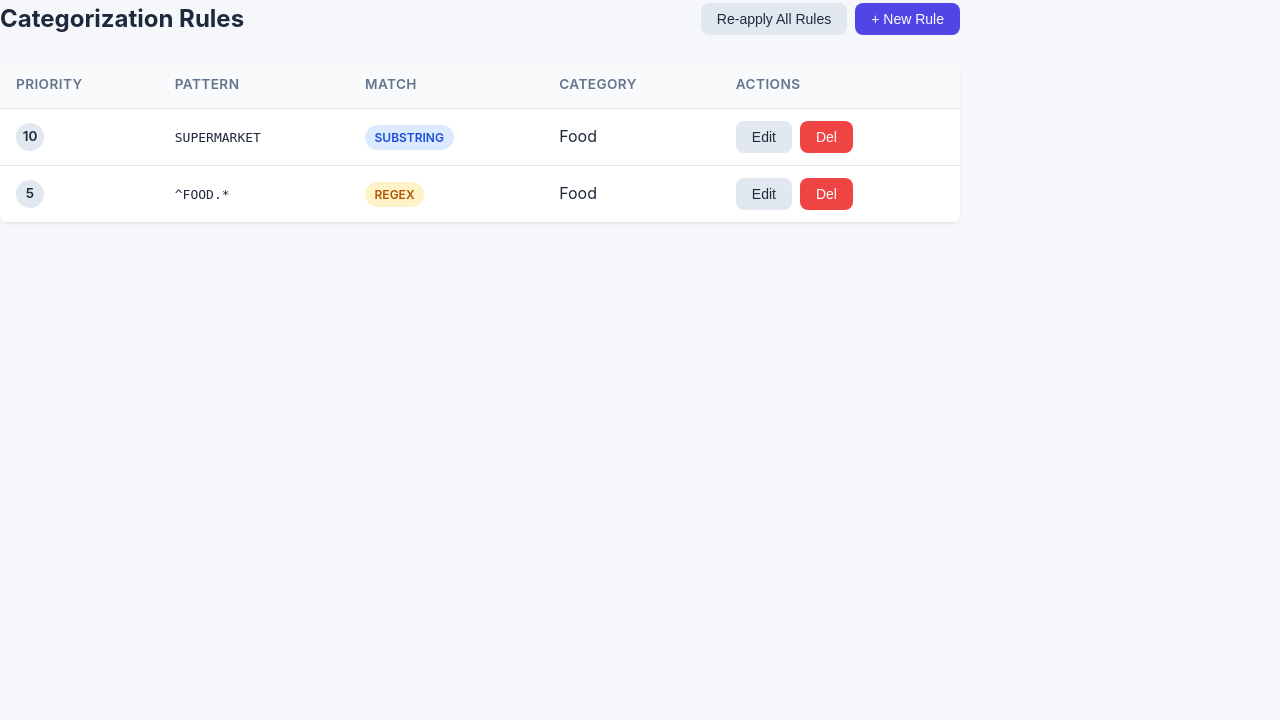
Scenario: RulesPage › opens modal when clicking New Rule
Expected: the text "SUPERMARKET" is shown, [175, 130, 261, 145]
Step 1. Click the button "+ New Rule" → click(908, 19), box [855, 3, 960, 35]
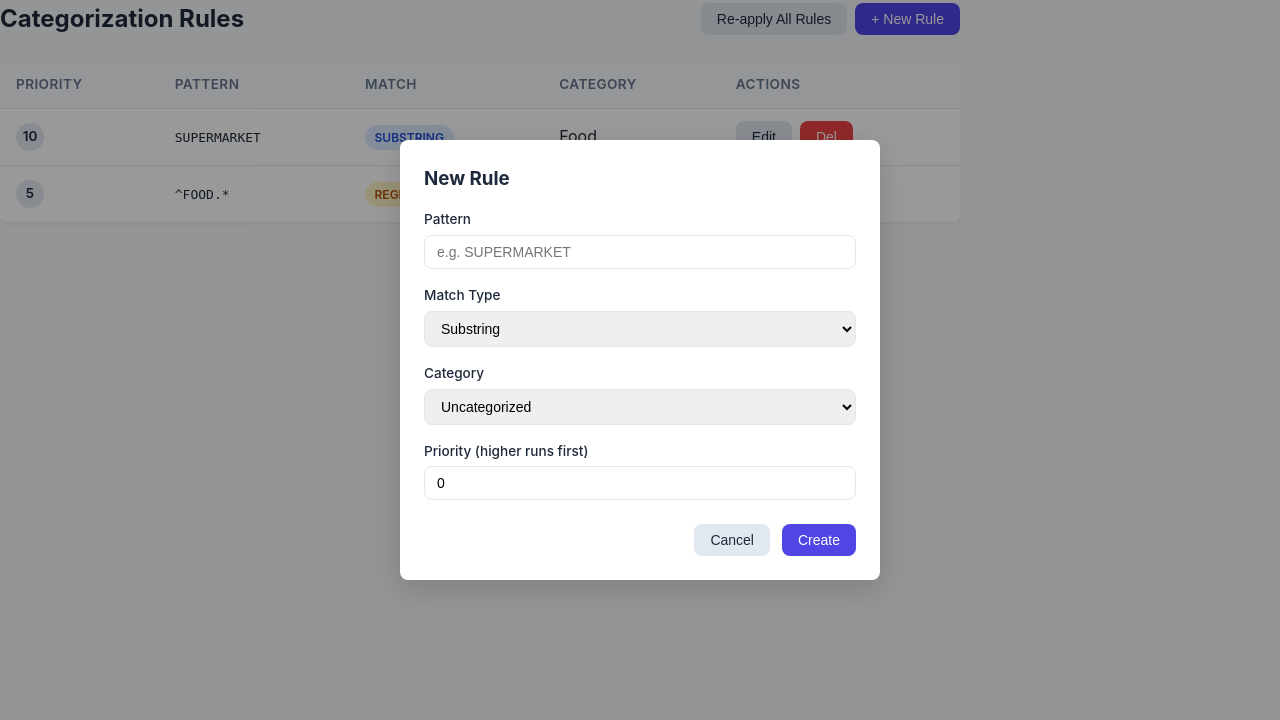
Now the heading "New Rule" is shown, box [424, 166, 510, 190]
Now the field with placeholder "e.g. SUPERMARKET" is shown, box [424, 235, 856, 269]
